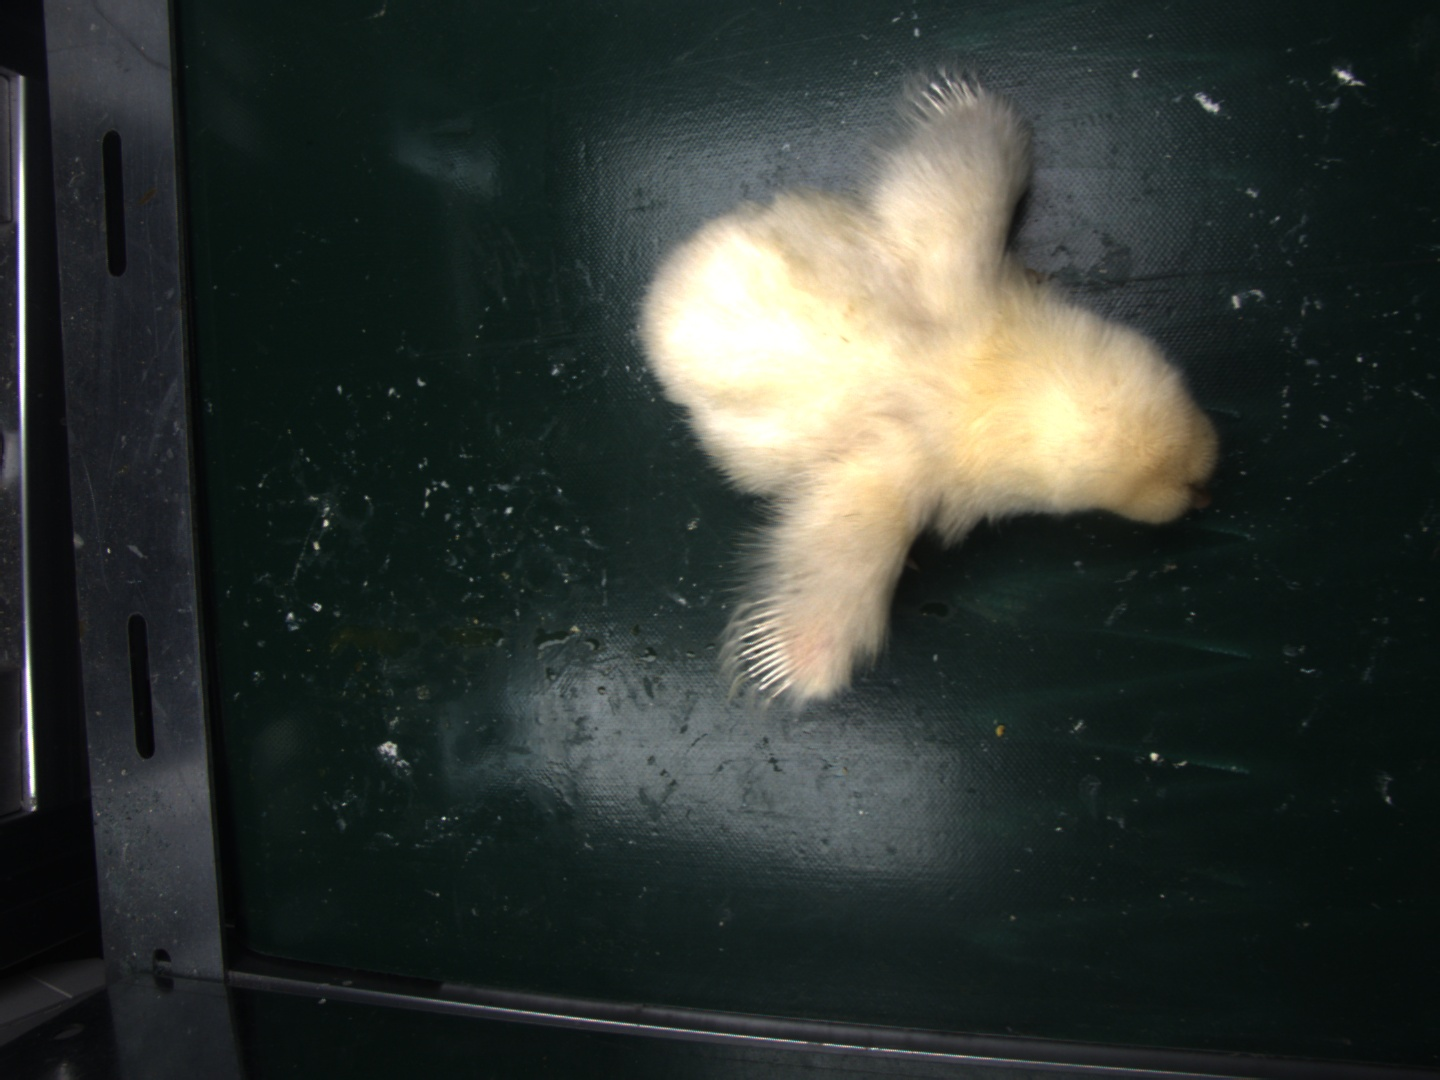male: (736, 600, 797, 698)
